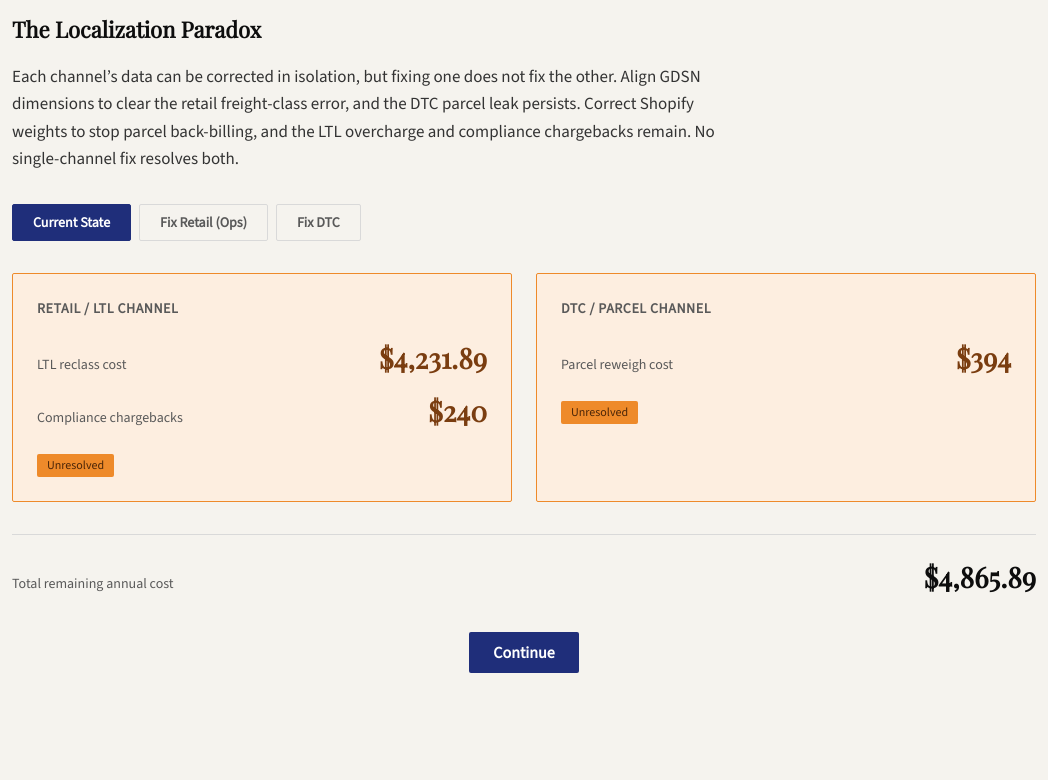
ParadoxToggle › Fix Retail (Ops) clears retail channel, parcel remains
Click the button "Fix Retail (Ops)".
click(204, 222)  # box [139,204,268,241]
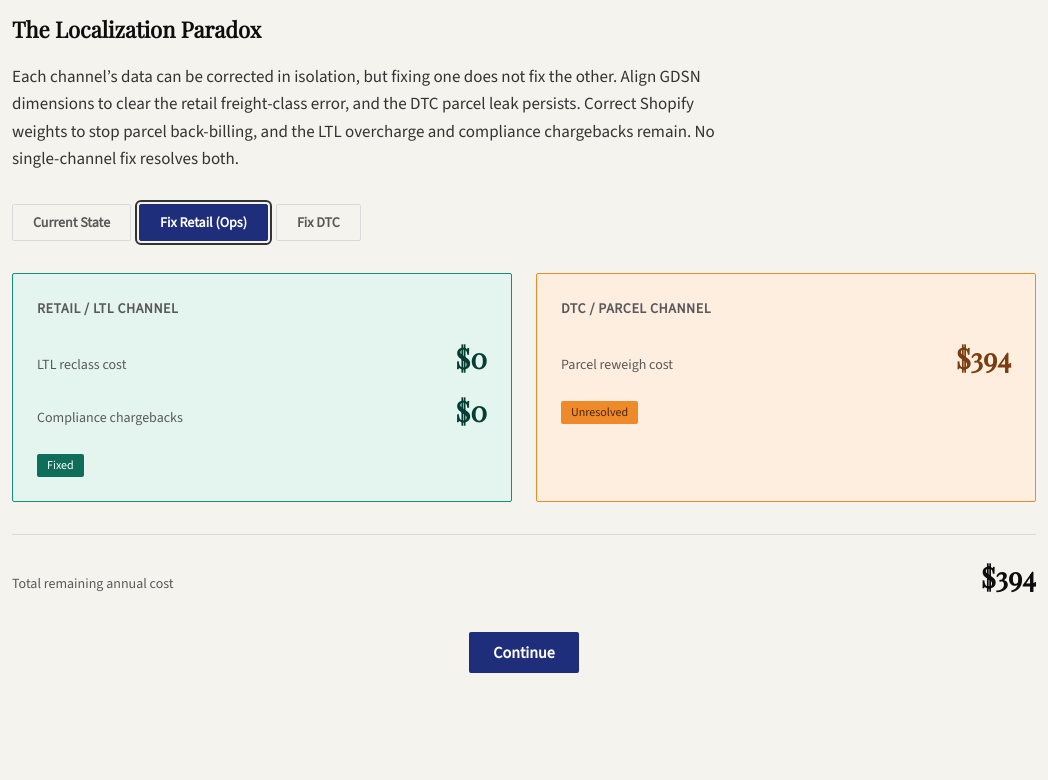
Expected: the text "Unresolved" is shown, [561,401,638,424]
Now the text "Fixed" is shown, box [37,454,84,477]
